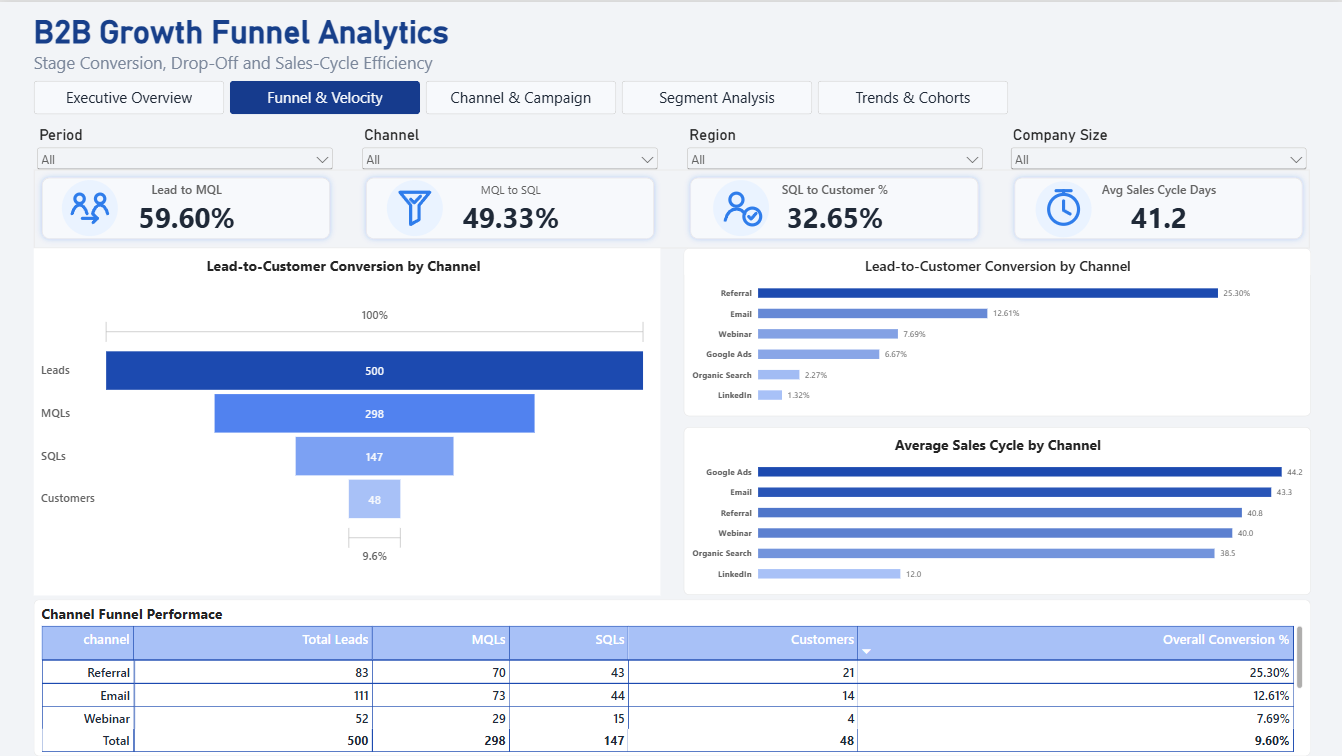

The page's visual inventory and layout, read from the dashboard file:
{"tool":"powerbi","page":{"name":"Funnel & Velocity","canvas":[1920,1080],"ordinal":1},"visuals":[{"type":"slicer","fields":{"Values":["Date.Year Month"]},"box":[48,176,432,80],"z":0},{"type":"slicer","fields":{"Values":["Lead Funnel.channel"]},"box":[512,176,432,80],"z":1000},{"type":"slicer","fields":{"Values":["Lead Funnel.region"]},"box":[976,176,432,80],"z":2000},{"type":"slicer","fields":{"Values":["Lead Funnel.company_size"]},"box":[1440,176,432,80],"z":3000},{"type":"textbox","title":"B2B Growth Funnel Analytics","box":[48,16,752,96],"z":4000},{"type":"pageNavigator","box":[48,112,1392,48],"z":5000},{"type":"cardVisual","fields":{"Data":["Lead Funnel.Lead to MQL %","Lead Funnel.MQL to SQL %","Lead Funnel.SQL to Customer %","Lead Funnel.Avg Sales Cycle Days"]},"box":[48,240,1824,112],"z":6000},{"type":"funnel","title":"Lead-to-Customer Conversion by Channel","fields":{"Category":["Funnel Stages.Stage"],"Y":["Lead Funnel.Funnel Count"]},"box":[48,351,895,496],"z":7000},{"type":"clusteredBarChart","title":"Lead-to-Customer Conversion by Channel","fields":{"Category":["Lead Funnel.channel"],"Y":["Lead Funnel.Overall Conversion %"]},"box":[976,352,896,240],"z":8000},{"type":"clusteredBarChart","title":"Average Sales Cycle by Channel","fields":{"Category":["Lead Funnel.channel"],"Y":["Lead Funnel.Avg Sales Cycle Days"]},"box":[976,608,896,240],"z":9000},{"type":"pivotTable","title":"Channel Funnel Performace","fields":{"Rows":["Lead Funnel.channel"],"Values":["Lead Funnel.Total Leads","Lead Funnel.MQLs","Lead Funnel.SQLs","Lead Funnel.Customers","Lead Funnel.Overall Conversion %"]},"box":[48,853,1824,224],"z":10000},{"type":"image","box":[80,247,96,96],"z":11000},{"type":"image","box":[544,247,96,96],"z":12000},{"type":"image","box":[1011,247,96,96],"z":13000},{"type":"image","box":[1472,248,96,96],"z":13001}]}

Visuals, with their boxes in screenshot pixels (x1, y1, x2, y2), scaled from the page's 1920x1080 canvas onto the 1342x756 screenshot:
slicer - Date.Year Month: 34:123:336:179
slicer - Lead Funnel.channel: 358:123:660:179
slicer - Lead Funnel.region: 682:123:984:179
slicer - Lead Funnel.company_size: 1006:123:1308:179
"B2B Growth Funnel Analytics" textbox: 34:11:559:78
pageNavigator: 34:78:1006:112
cardVisual - Lead Funnel.Lead to MQL % x Lead Funnel.MQL to SQL %: 34:168:1308:246
"Lead-to-Customer Conversion by Channel" funnel: 34:246:659:593
"Lead-to-Customer Conversion by Channel" clusteredBarChart: 682:246:1308:414
"Average Sales Cycle by Channel" clusteredBarChart: 682:426:1308:594
"Channel Funnel Performace" pivotTable: 34:597:1308:754
image: 56:173:123:240
image: 380:173:447:240
image: 707:173:774:240
image: 1029:174:1096:241
